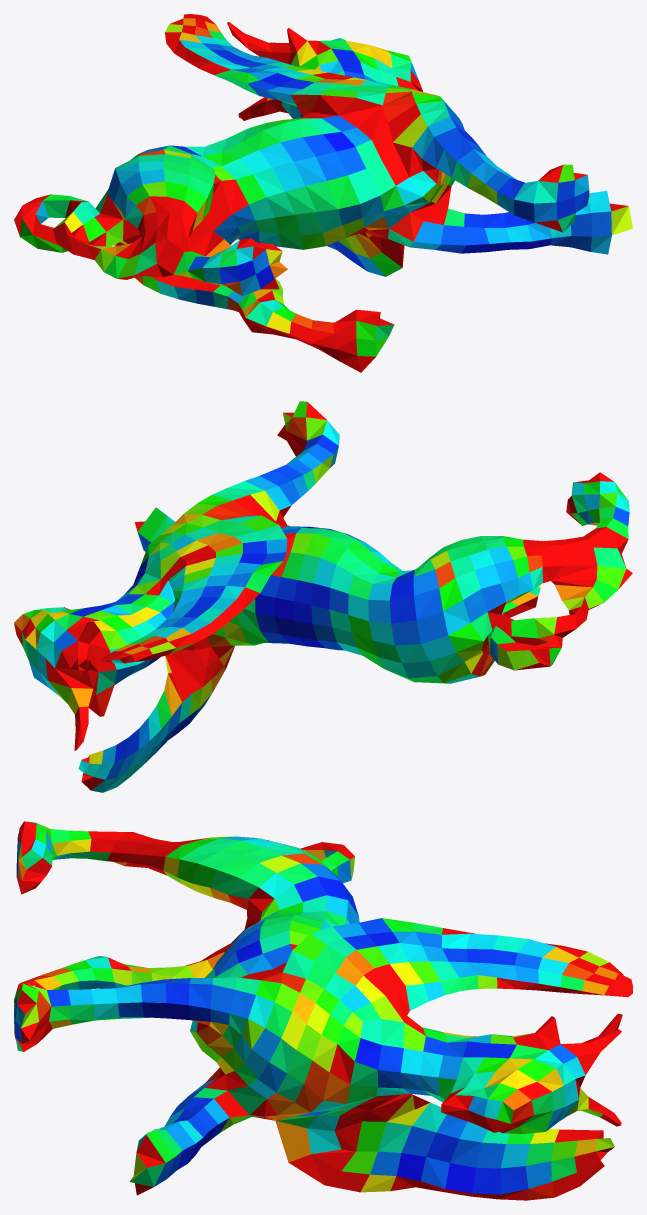
File: feline_no_opt_quality.obj
3 views of the same model, one above another, from view 1: azimuth 30°, elevation 25°; view 2: azimuth 150°, elevation 25°; view 3: azimuth 270°, elevation 25° (orthographic). The views are drawn at different scales.
Bounding box in the file's own units: 135 × 55.81 × 131.
